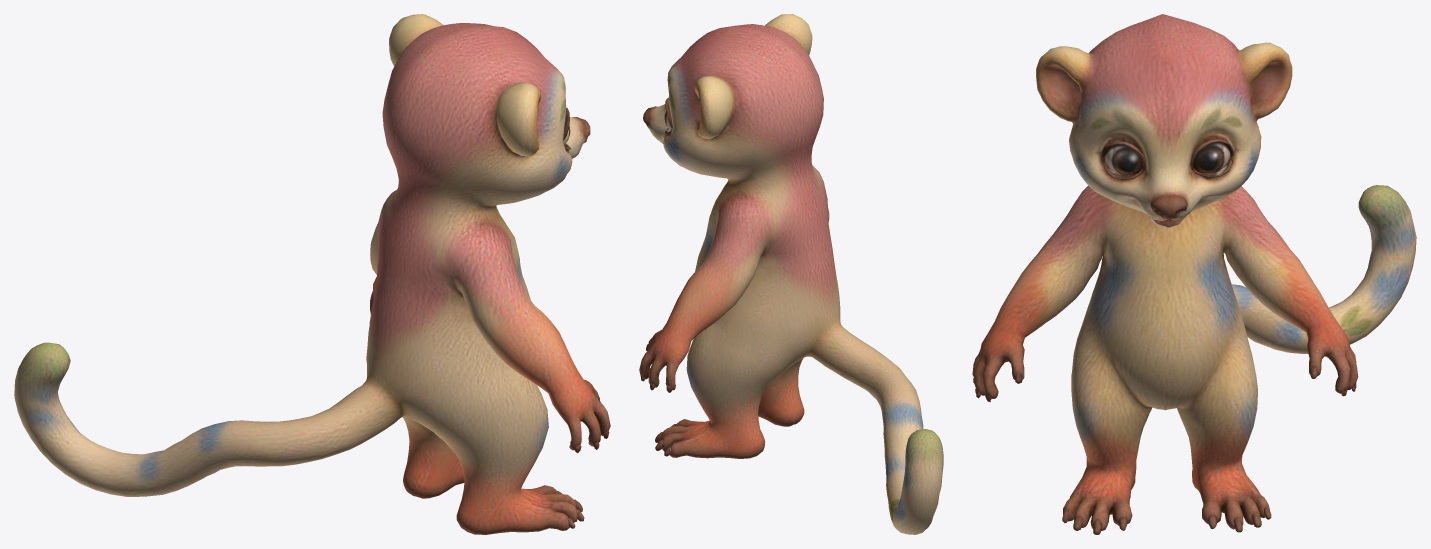
The model's file is 500049183-static-p1.glb.
3 renders of one model, left to right at view 1: azimuth 30°, elevation 25°; view 2: azimuth 150°, elevation 25°; view 3: azimuth 270°, elevation 25°, orthographic. The views are drawn at different scales.
Parts seen in each view (by area): view 1: tripo_node_9a7bf015-eb5e-40f8-a7ca-968054e634d8; view 2: tripo_node_9a7bf015-eb5e-40f8-a7ca-968054e634d8; view 3: tripo_node_9a7bf015-eb5e-40f8-a7ca-968054e634d8.
Part boxes in pixels (box(x1,y1,x2,y2)): tripo_node_9a7bf015-eb5e-40f8-a7ca-968054e634d8: box(14, 14, 610, 534); tripo_node_9a7bf015-eb5e-40f8-a7ca-968054e634d8: box(639, 14, 943, 534); tripo_node_9a7bf015-eb5e-40f8-a7ca-968054e634d8: box(972, 14, 1416, 534).
Bounding box in the file's own units: 0.3022 × 0.3 × 0.2546.
1 material, 1 textured.
